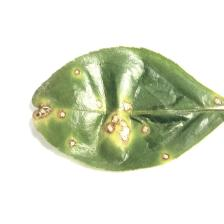canker: (32, 56, 224, 168)
